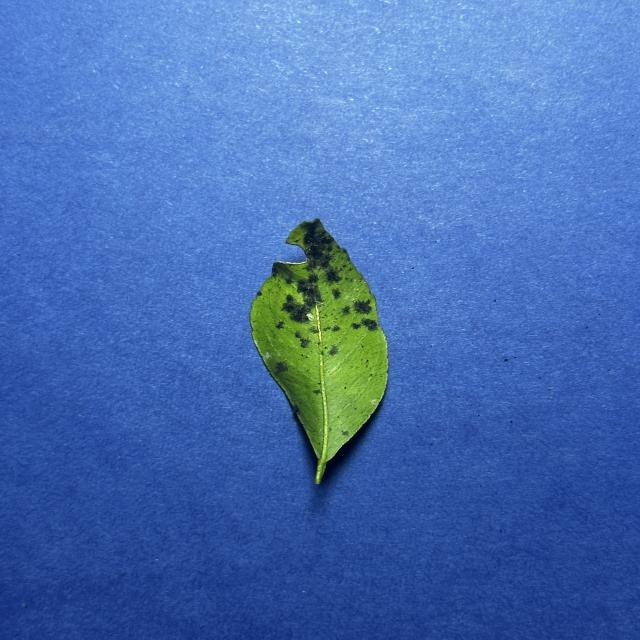sooty_mold: (250, 219, 388, 483)
